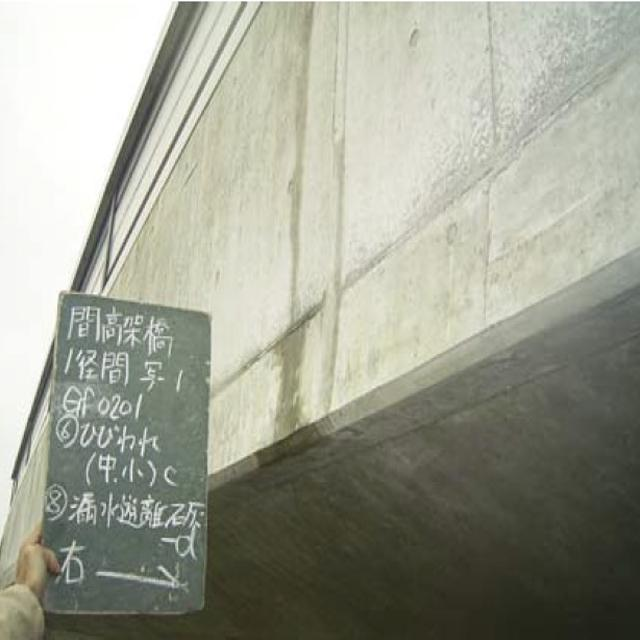leakage: (257, 323, 332, 466)
